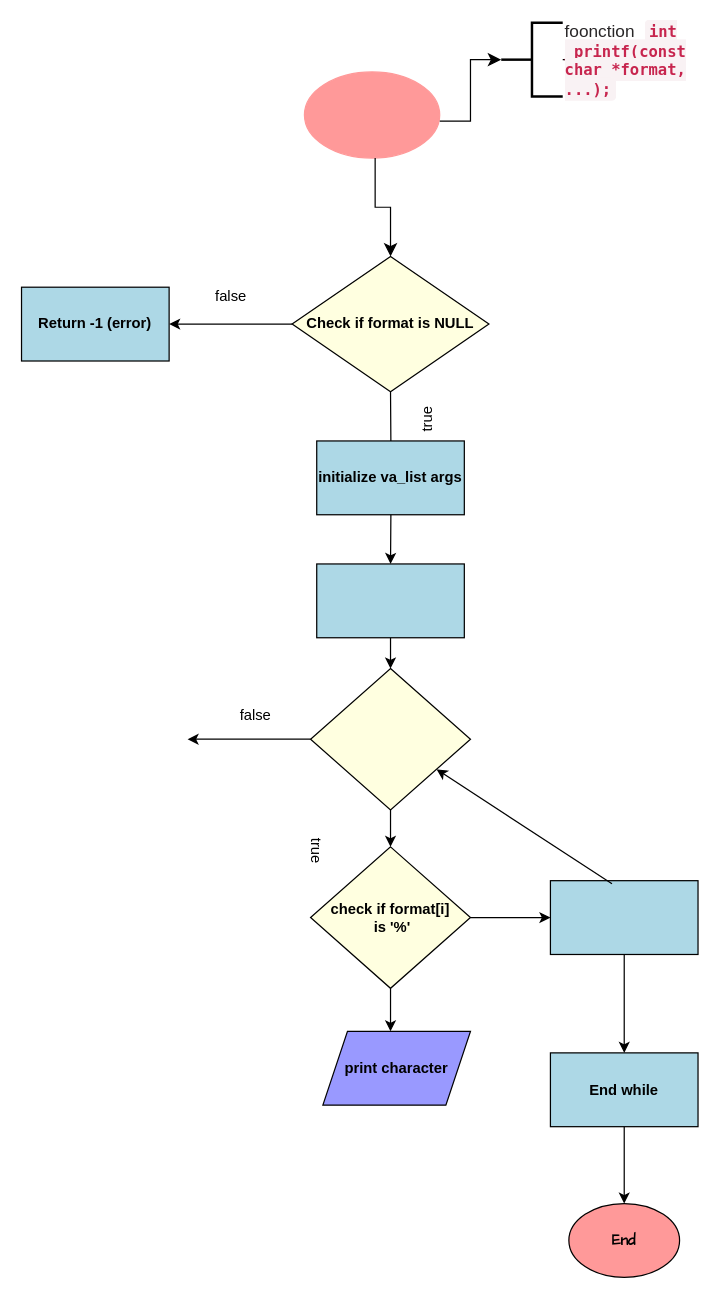
The diagram is 720 pixels wide and 1299 high, and some of its shapes have lost their labels. The centre of each missing label's shape, as x and y in pixels:
handle format specifiers: point (623, 916)
handle format string: point (389, 600)
Start: point (371, 114)
While (format[i] != '\0': point (389, 738)
